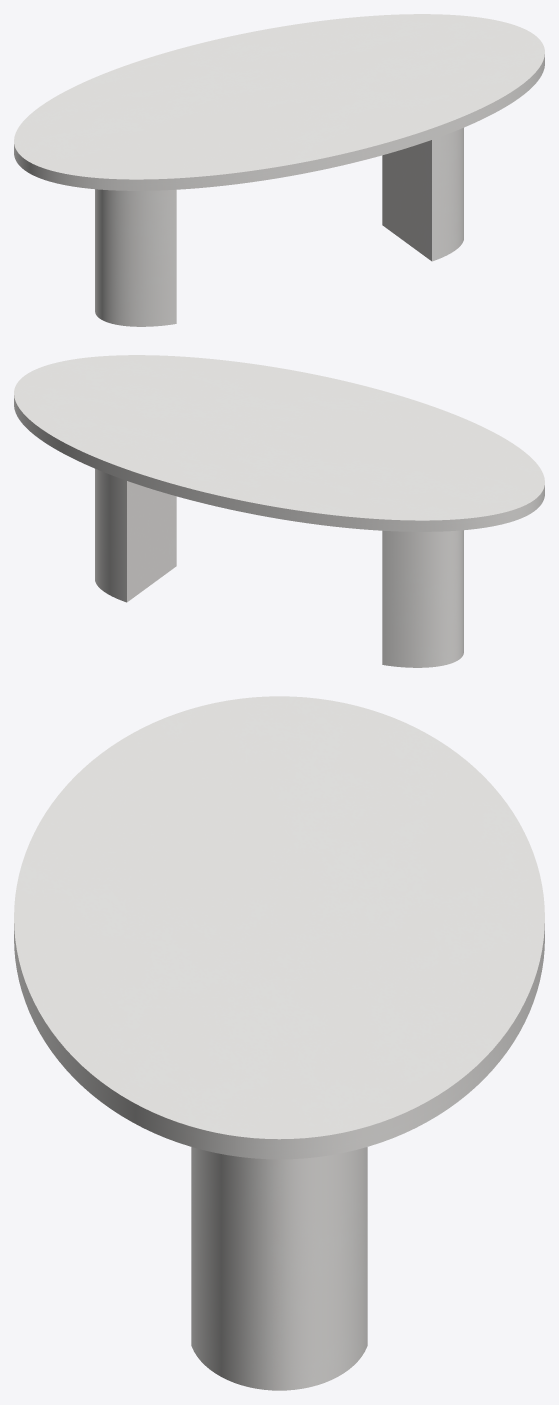
File: purewhite_ellips_standard_hillside.glb
3 renders of one model, top to bottom at view 1: azimuth 30°, elevation 25°; view 2: azimuth 150°, elevation 25°; view 3: azimuth 270°, elevation 25°, orthographic. The views are drawn at different scales.
Visible parts, largest first — view 1: standard_ellips, hillside; view 2: standard_ellips, hillside; view 3: standard_ellips, hillside.
Boxes of the visible parts, bbox=[...] form: standard_ellips: bbox=[14, 14, 544, 190]; hillside: bbox=[95, 127, 463, 326]; standard_ellips: bbox=[14, 355, 544, 531]; hillside: bbox=[95, 468, 463, 667]; standard_ellips: bbox=[14, 696, 544, 1159]; hillside: bbox=[191, 1147, 367, 1390].
Bounding box in the file's own units: 7.5 × 2.5 × 3.8.
Materials: 1 (1 with a texture image).
